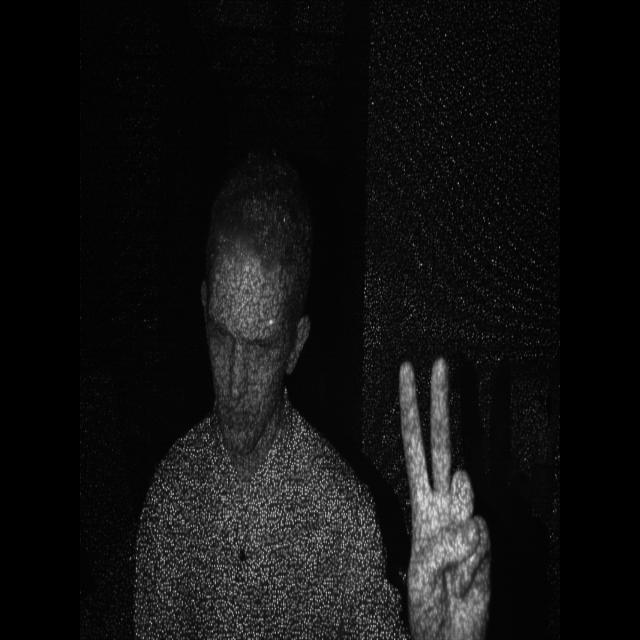V: (378, 335, 512, 640)
